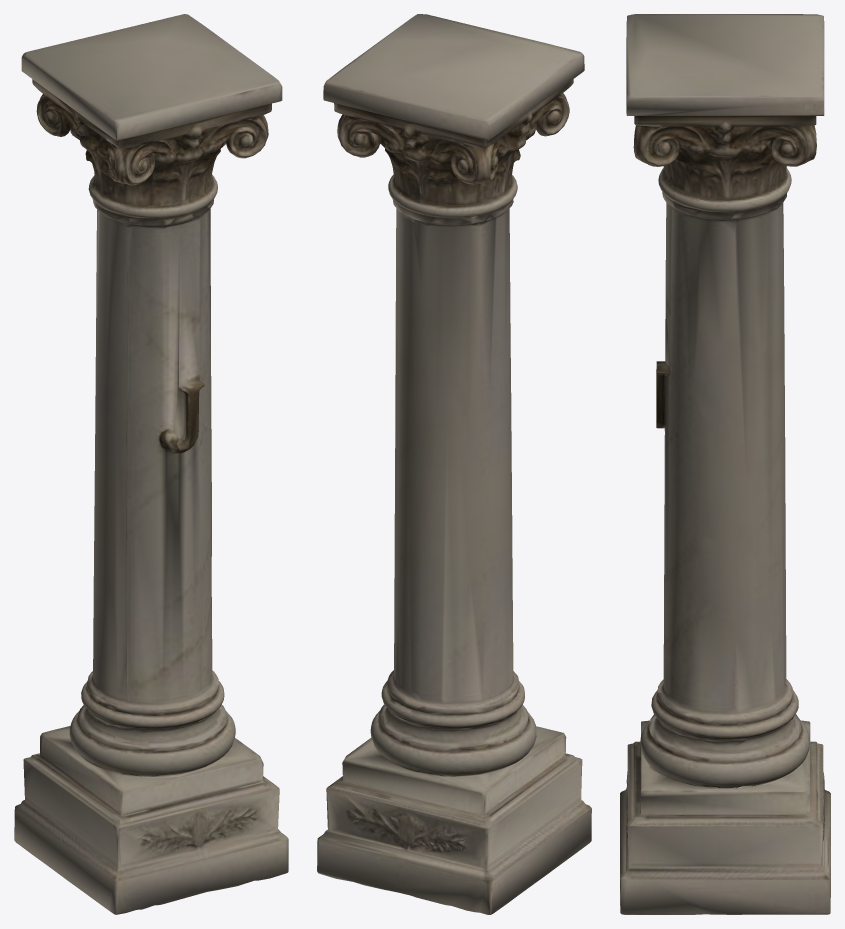
The model's file is jachin.lean.glb.
3 renders of one model, left to right at view 1: azimuth 30°, elevation 25°; view 2: azimuth 150°, elevation 25°; view 3: azimuth 270°, elevation 25°, orthographic. The views are drawn at different scales.
Visible parts, largest first — view 1: node_0; view 2: node_0; view 3: node_0.
Boxes of the visible parts, x1=… form: node_0: x1=14, y1=14, x2=288, y2=914; node_0: x1=317, y1=14, x2=591, y2=914; node_0: x1=620, y1=14, x2=830, y2=914.
Bounding box in the file's own units: 0.2644 × 1.14 × 0.2675.
Materials: 1 (1 with a texture image).
